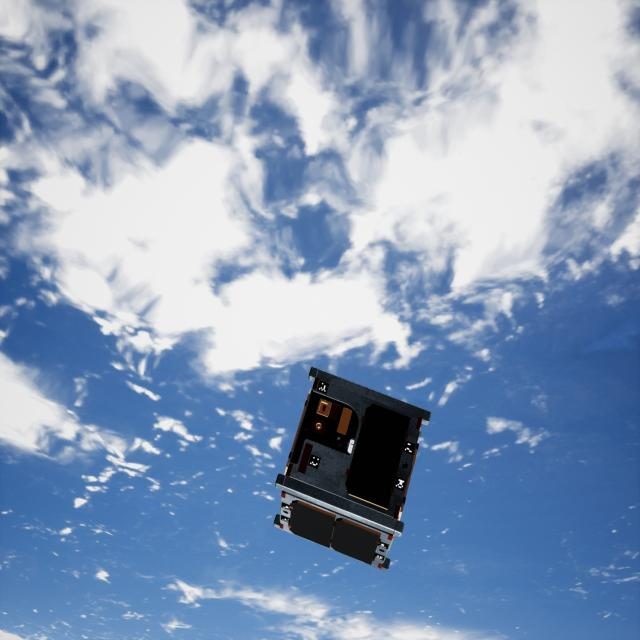satellite: (267, 364, 435, 577)
